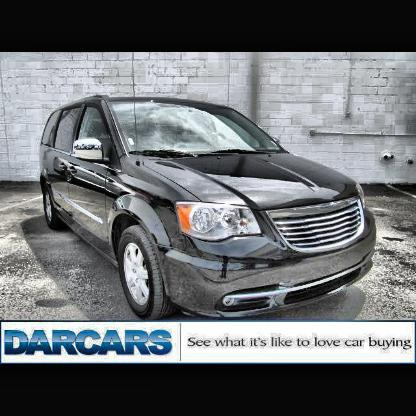Chrysler Town and Country Minivan 2012: (40, 94, 382, 324)
